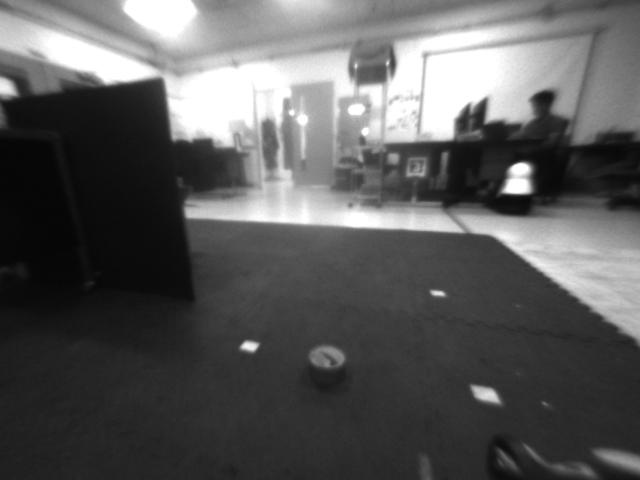dogtoy: (299, 342, 356, 382)
